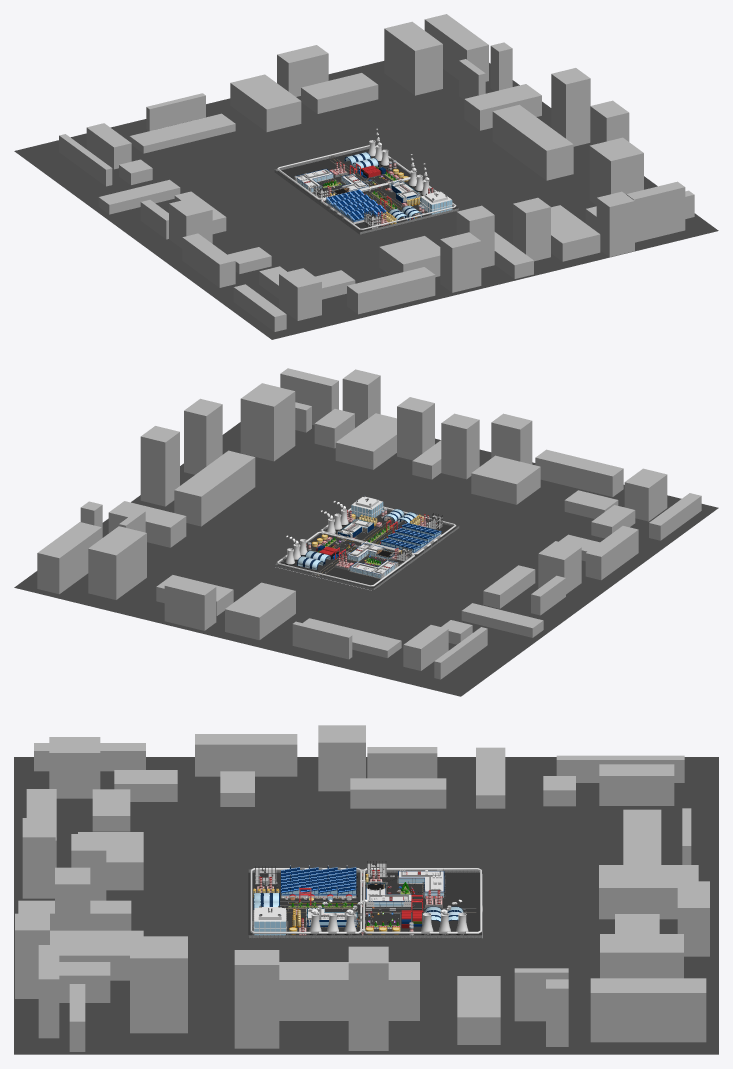
The picture shows the model from 3 angles, top to bottom: view 1: azimuth 30°, elevation 25°; view 2: azimuth 150°, elevation 25°; view 3: azimuth 270°, elevation 25°; orthographic projection. The views are drawn at different scales.
Visible parts, largest first — view 1: background, env_industry_main, pipe2, Cube.093, building_office.002; view 2: background, env_industry_main, pipe2, building_office.002, Cube.093, building_office; view 3: background, env_industry_main, pipe2, building_office.002, Cube.093, building_office, buidling_production_large, buidling_production_large.001, exhaust_big, exhaust_big.002, buidling_production_large.003, buidling_production_large.002 (+1 smaller).
Boxes of the visible parts, <box> form: background: <box>14,14,718,339</box>; env_industry_main: <box>274,146,458,234</box>; pipe2: <box>277,145,456,229</box>; Cube.093: <box>418,190,453,214</box>; building_office.002: <box>294,168,334,192</box>; background: <box>14,368,718,696</box>; env_industry_main: <box>275,508,459,590</box>; pipe2: <box>276,506,456,586</box>; building_office.002: <box>349,559,398,579</box>; Cube.093: <box>349,495,383,519</box>; building_office: <box>347,541,394,562</box>; background: <box>14,725,718,1054</box>; env_industry_main: <box>248,869,482,938</box>; pipe2: <box>250,868,481,933</box>; building_office.002: <box>397,869,445,898</box>; Cube.093: <box>252,905,288,935</box>; building_office: <box>365,881,413,908</box>; buidling_production_large: <box>337,865,356,900</box>; buidling_production_large.001: <box>318,865,337,900</box>; exhaust_big: <box>421,912,468,935</box>; exhaust_big.002: <box>309,912,356,935</box>; buidling_production_large.003: <box>281,865,299,900</box>; buidling_production_large.002: <box>300,865,318,900</box>.
Bounding box in the file's own units: 910 × 129 × 910.
Materials: 18 (16 with a texture image).
